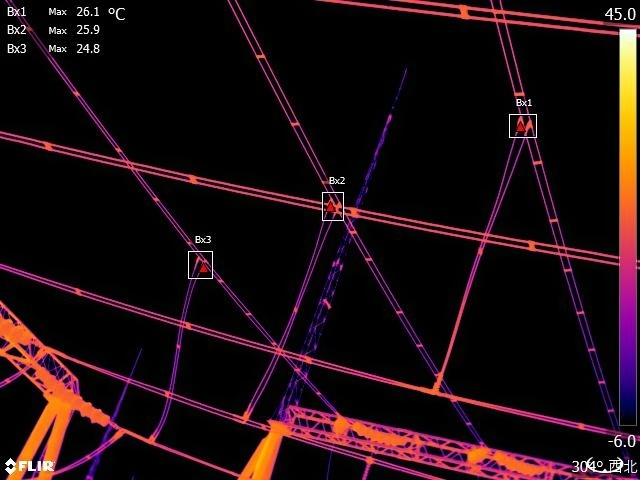clamp: (189, 248, 215, 271), (323, 196, 346, 221), (425, 379, 449, 401), (513, 114, 535, 135), (234, 408, 255, 428), (113, 423, 133, 442), (144, 428, 160, 451)
insulator: (34, 362, 116, 430), (350, 419, 409, 449), (493, 448, 546, 476)
